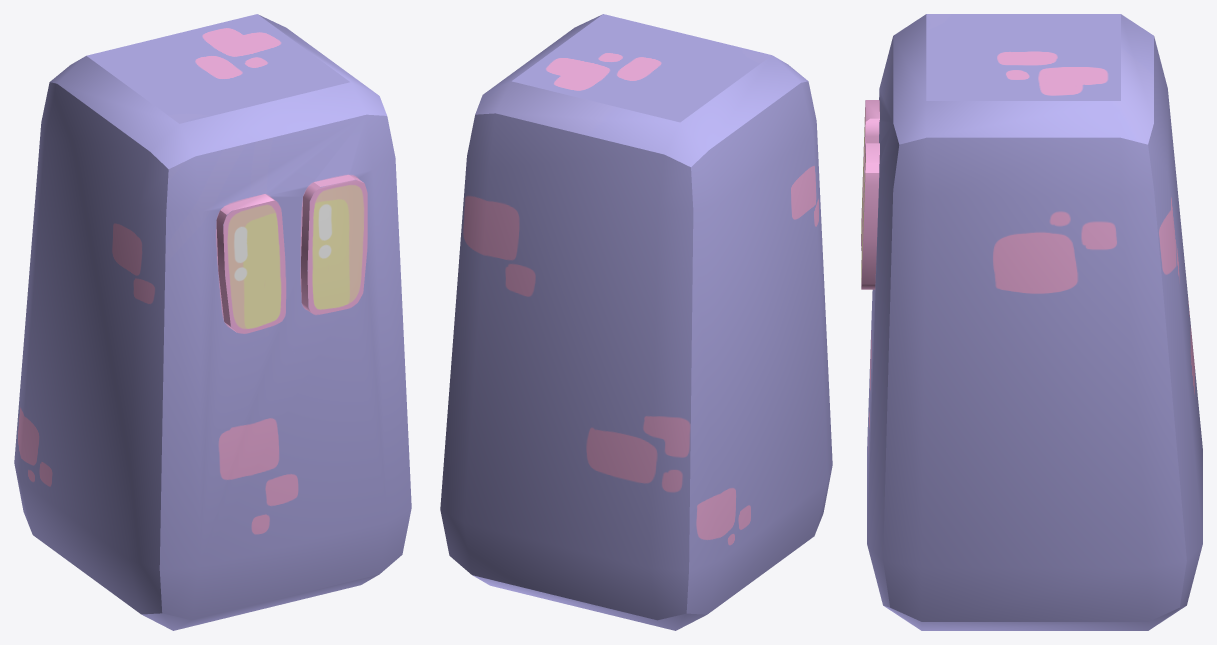
The model's file is spectator.fbx.
3 renders of one model, left to right at view 1: azimuth 30°, elevation 25°; view 2: azimuth 150°, elevation 25°; view 3: azimuth 270°, elevation 25°, orthographic. The views are drawn at different scales.
Visible parts, largest first — view 1: spectator; view 2: spectator; view 3: spectator.
Part boxes in pixels (left/top/right/bottom): spectator: left=14, top=14, right=411, bottom=630; spectator: left=440, top=14, right=832, bottom=630; spectator: left=861, top=14, right=1202, bottom=630.
Size of the model in its own units: 160 by 276 by 163.
